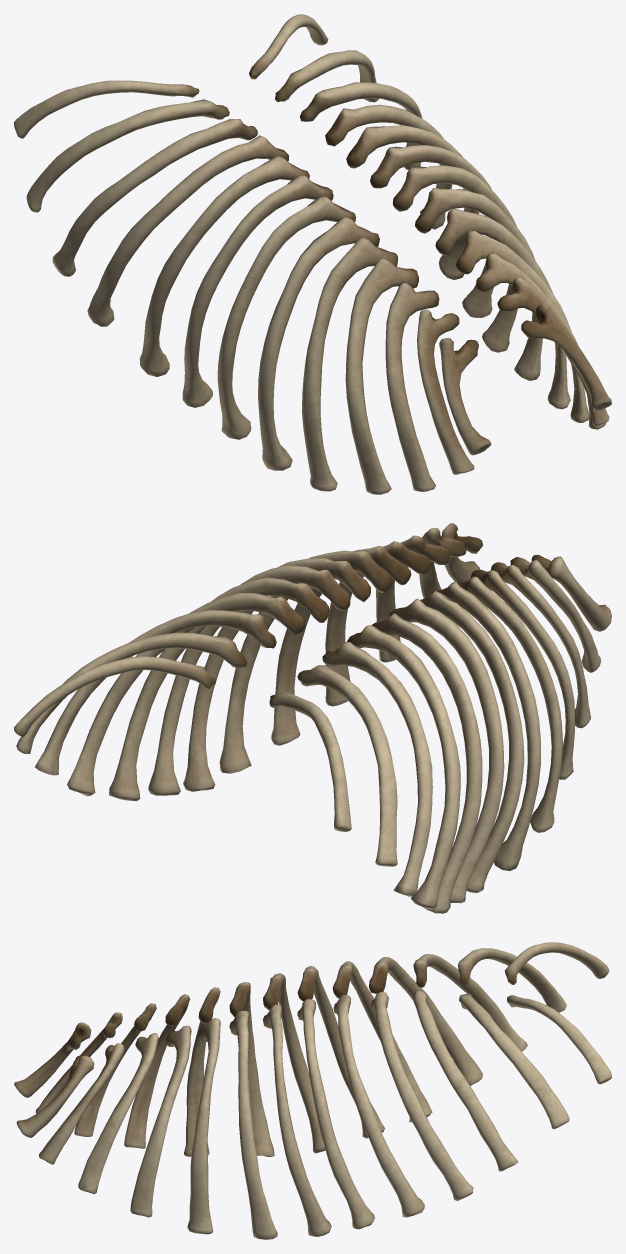
File: Ribs.glb
3 renders of one model, top to bottom at view 1: azimuth 30°, elevation 25°; view 2: azimuth 150°, elevation 25°; view 3: azimuth 270°, elevation 25°, orthographic. The views are drawn at different scales.
Visible parts, largest first — view 1: Ribs1:Group43081; view 2: Ribs1:Group43081; view 3: Ribs1:Group43081.
Part boxes in pixels (x1,y1,x2,y2): Ribs1:Group43081: (14, 14, 611, 494); Ribs1:Group43081: (14, 523, 611, 913); Ribs1:Group43081: (14, 942, 611, 1239).
Size of the model in its own units: 138 by 99.95 by 239.
1 material, 1 textured.
